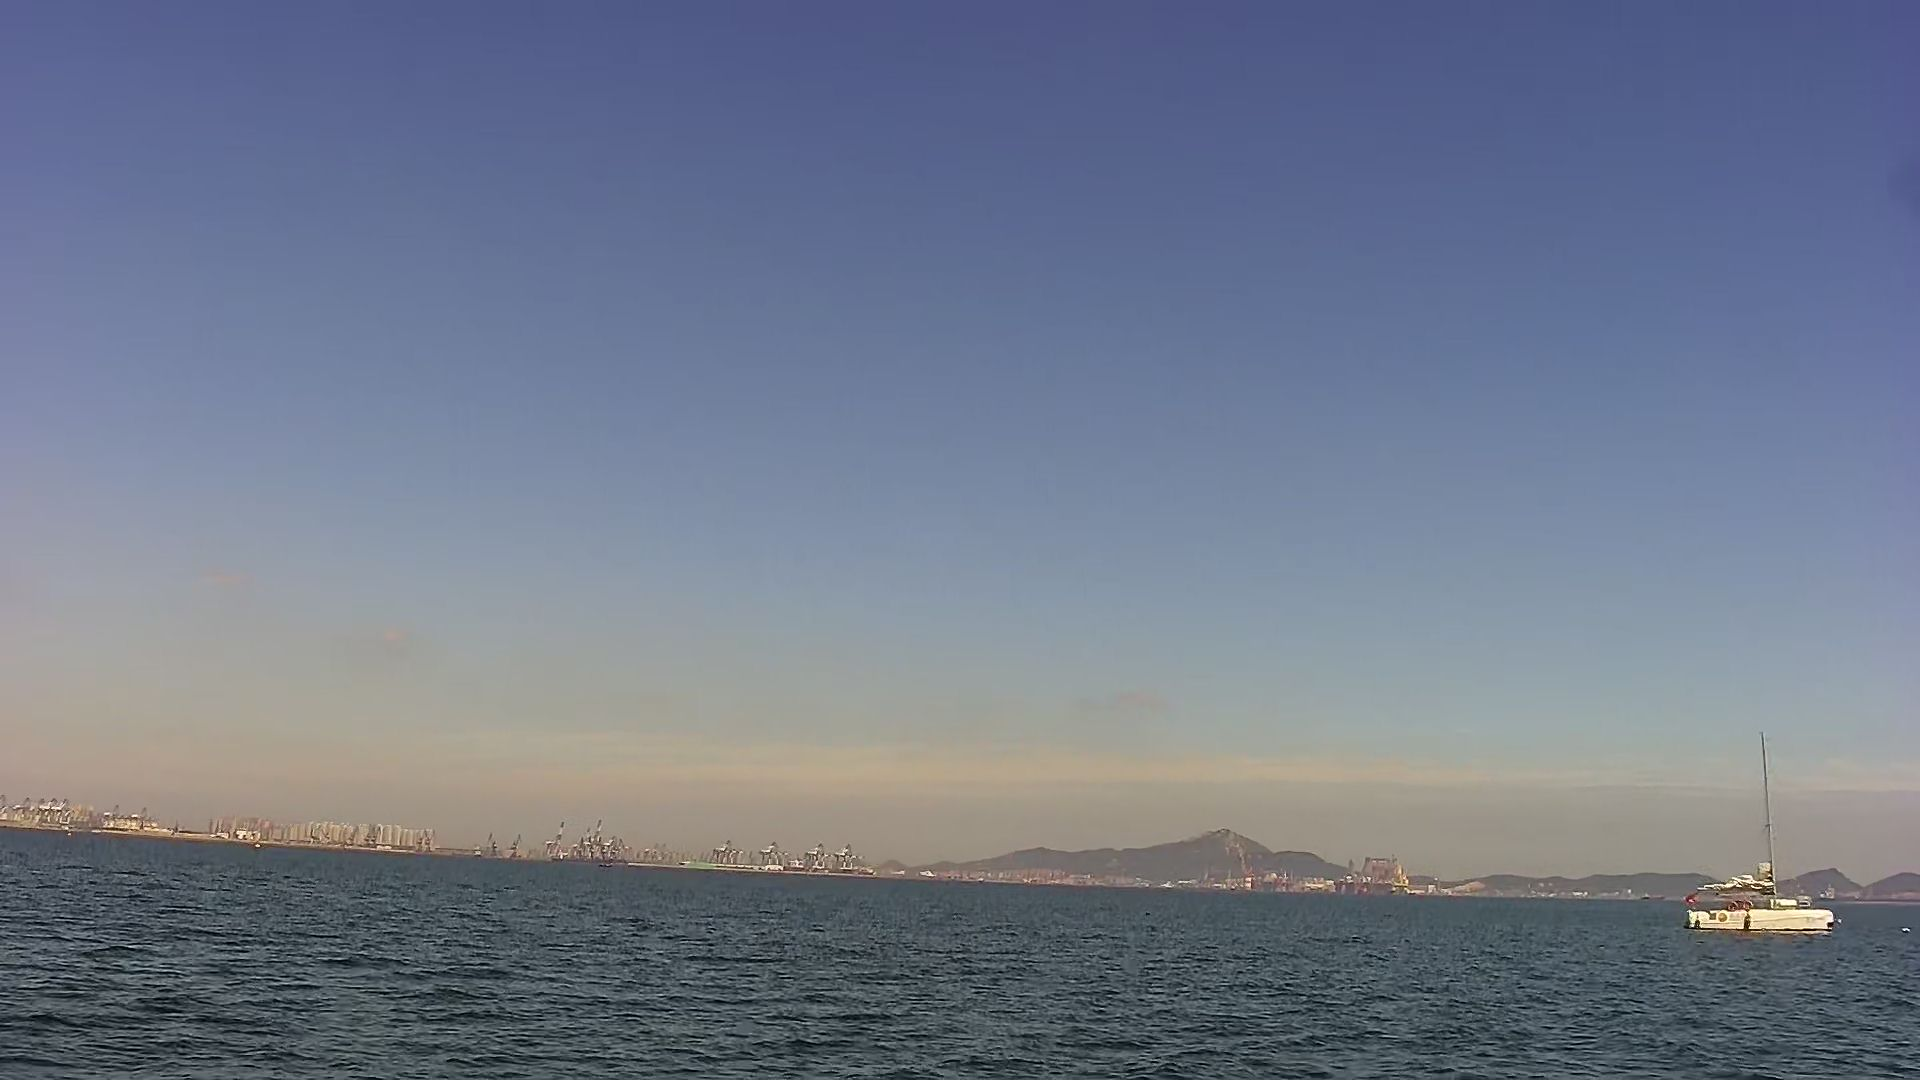boat: (1687, 733, 1836, 934)
